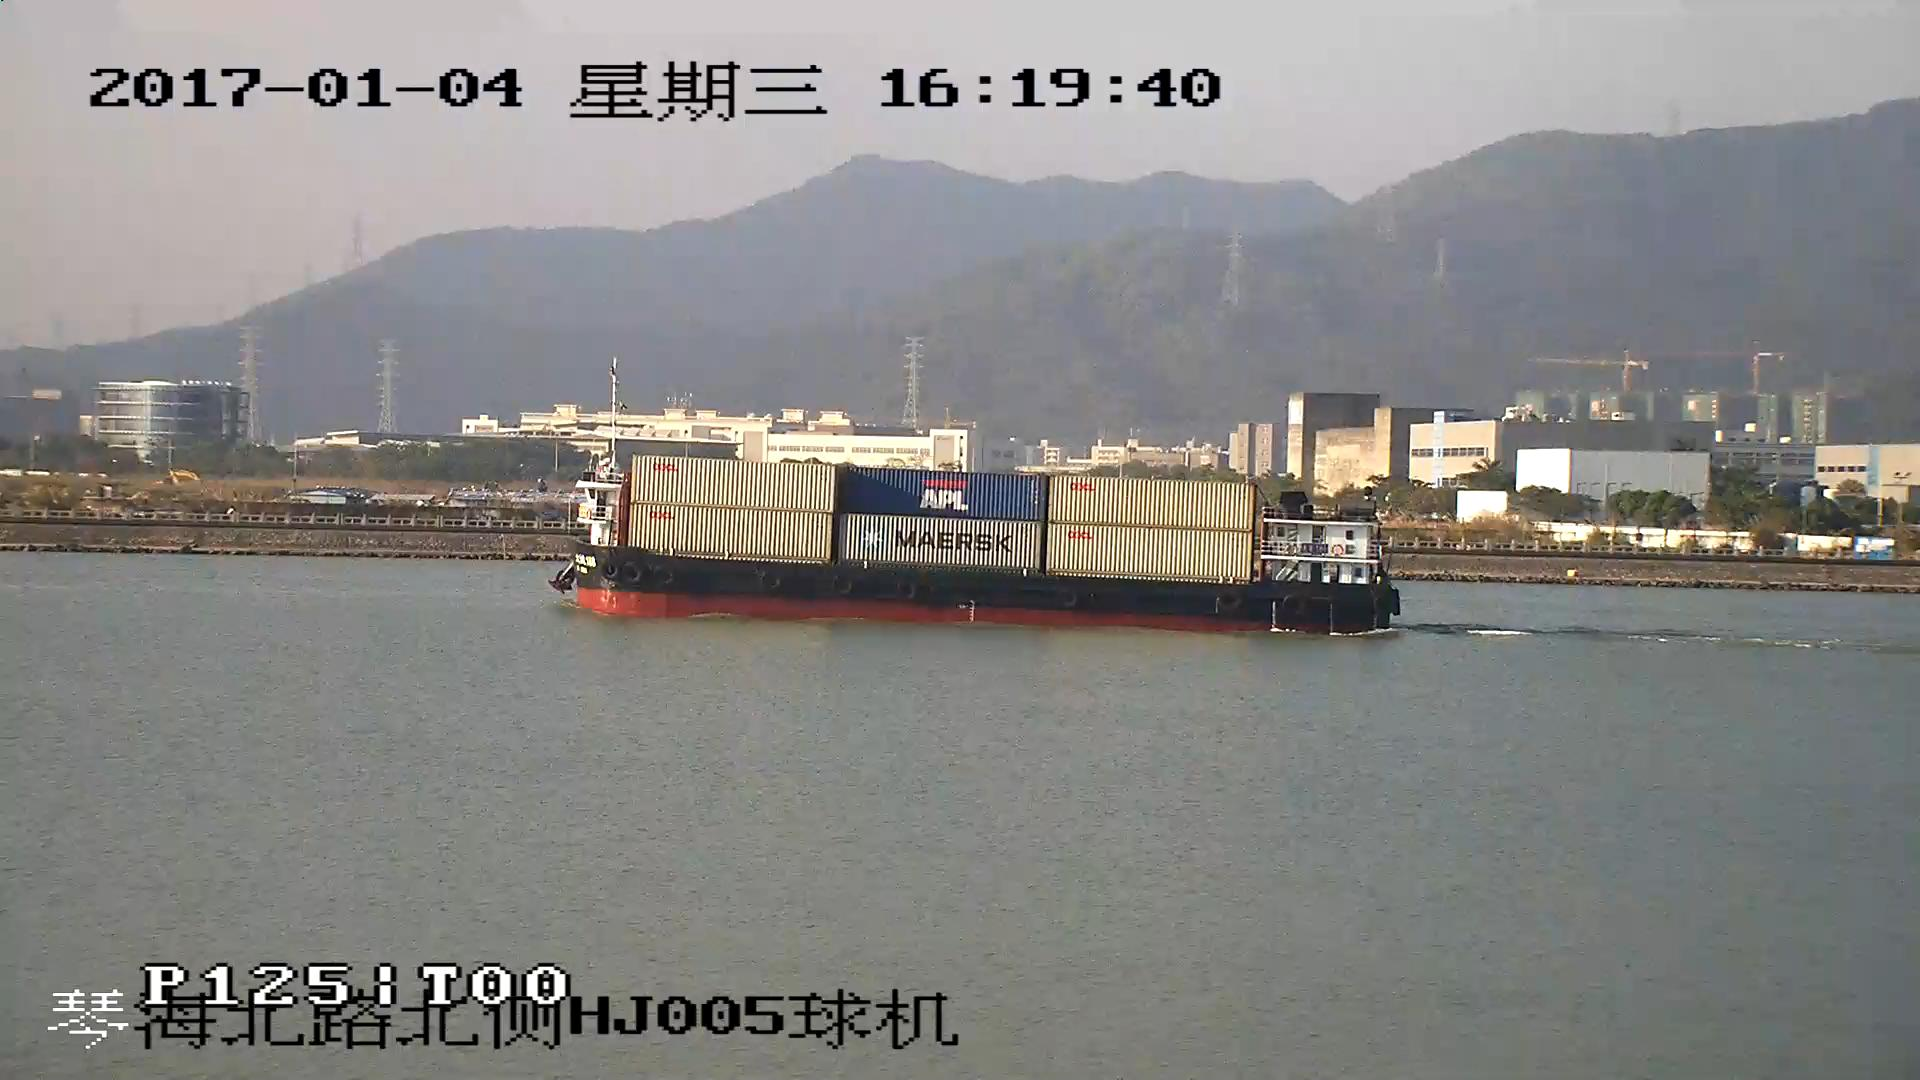container ship: (549, 442, 1403, 633)
